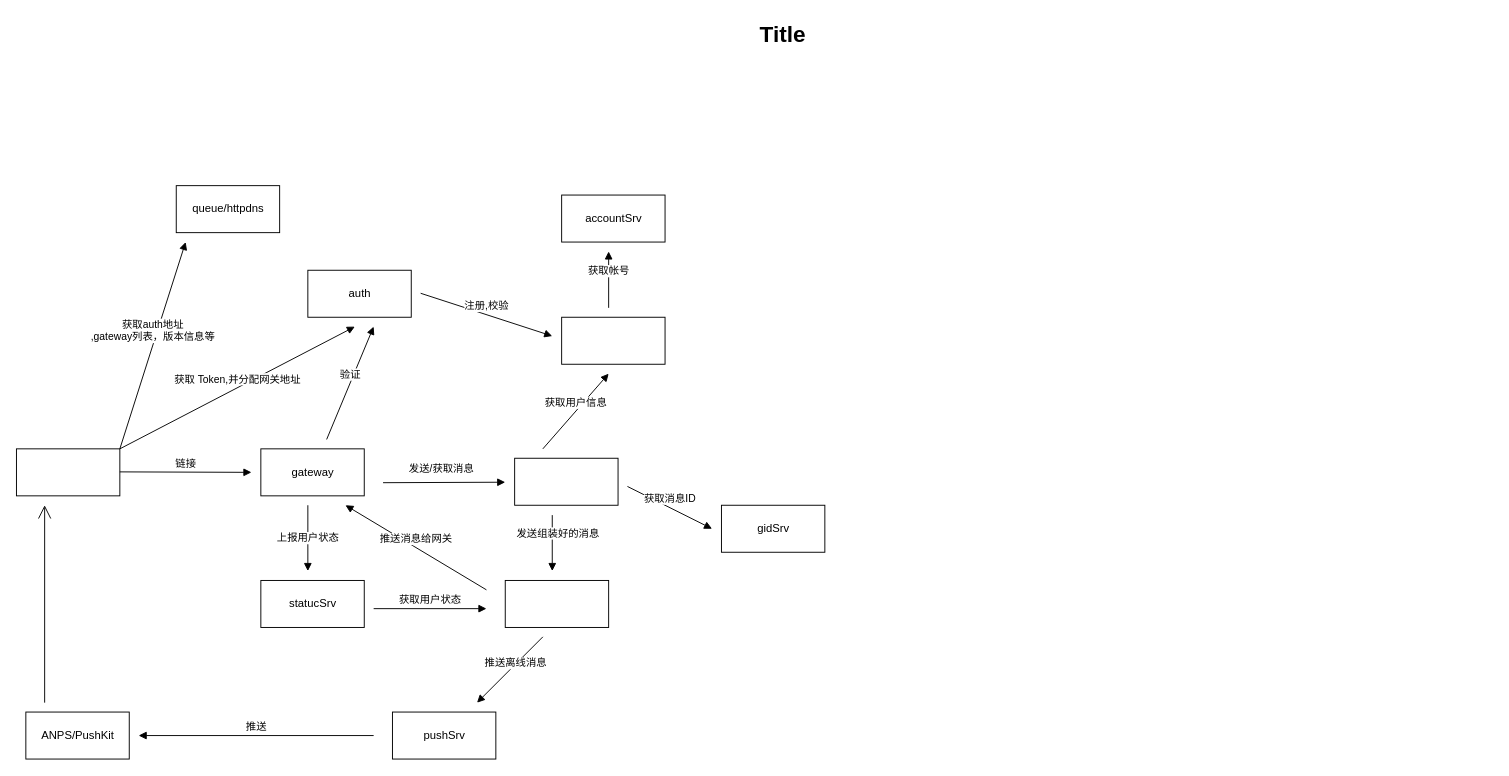
This 1509x776 diagram has some shape labels left out. The shapes that lost their labels are listed below. From the top down, each one's box as (x1, y1, x2, y2) in pixels, then its label:
(561, 316, 665, 364): userSrv
(16, 448, 120, 496): Client
(514, 457, 618, 505): msgSrv
(504, 580, 609, 627): routeSrv
